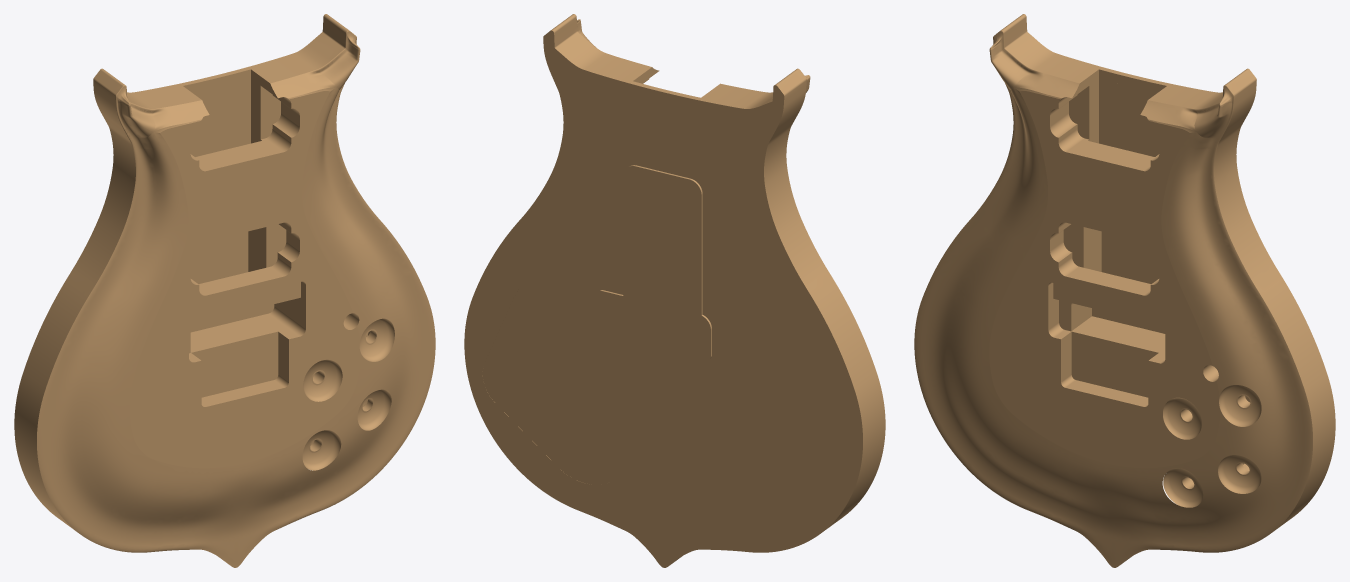
Rendered from sphyx_tremolo.glb.
3 renders of one model, left to right at view 1: azimuth 30°, elevation 25°; view 2: azimuth 150°, elevation 25°; view 3: azimuth 330°, elevation 25°, orthographic.
Parts seen in each view (by area): view 1: sphyx_tremolo; view 2: sphyx_tremolo; view 3: sphyx_tremolo.
Boxes of the visible parts, x1,y1,x2,y2 form: sphyx_tremolo: (14,14,435,567); sphyx_tremolo: (464,14,885,567); sphyx_tremolo: (914,14,1335,567).
Size of the model in its own units: 0.3251 by 0.3973 by 0.0462.
